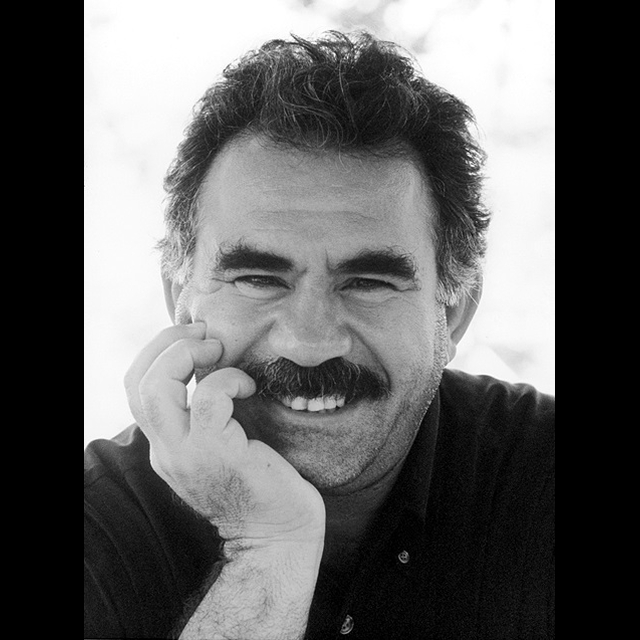APO: (146, 37, 481, 520)
